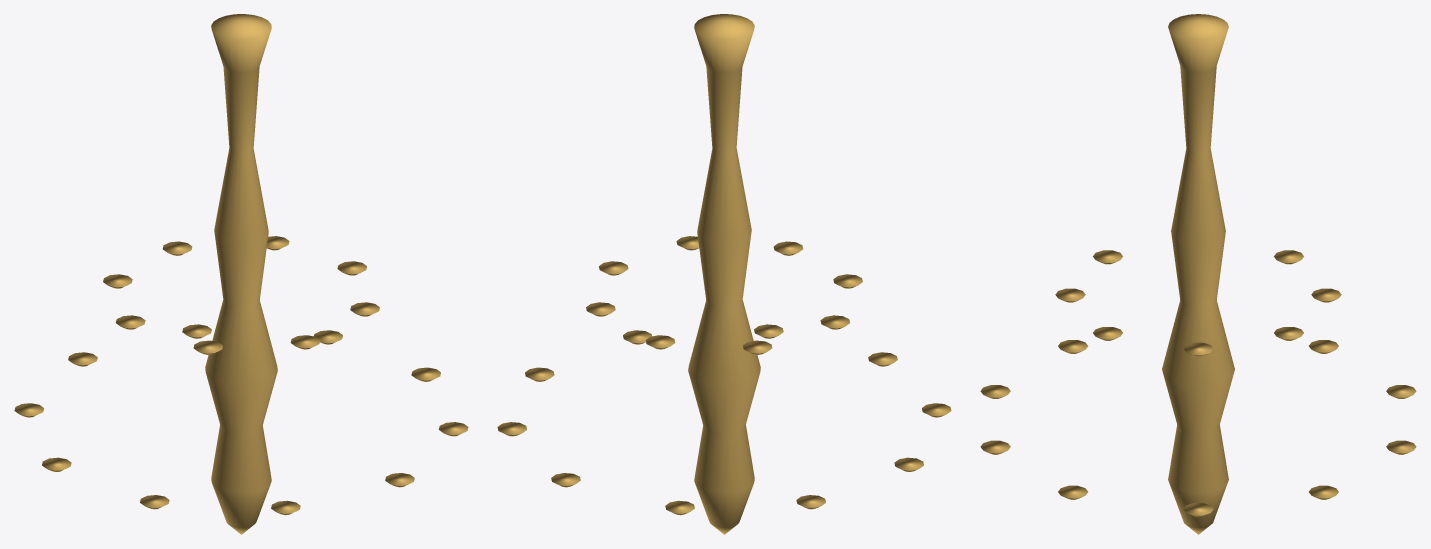
Rendered from KRM_M38_P5MODL_gilt.fbx.
The picture shows the model from 3 angles, left to right: view 1: azimuth 30°, elevation 25°; view 2: azimuth 150°, elevation 25°; view 3: azimuth 270°, elevation 25°; orthographic projection.
Visible parts, largest first — view 1: KRM_M38_P5MODL_gilt; view 2: KRM_M38_P5MODL_gilt; view 3: KRM_M38_P5MODL_gilt.
Part boxes in pixels (bbox=[...]): KRM_M38_P5MODL_gilt: bbox=[14, 14, 468, 534]; KRM_M38_P5MODL_gilt: bbox=[497, 14, 951, 534]; KRM_M38_P5MODL_gilt: bbox=[980, 14, 1416, 534].
Bounding box in the file's own units: 150 × 186 × 143.
Materials: 1 (1 with a texture image).
